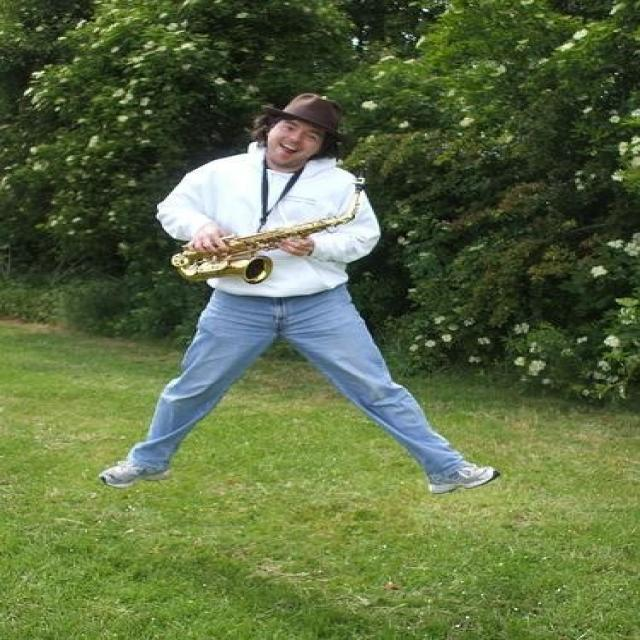saxophone: (169, 166, 371, 286)
